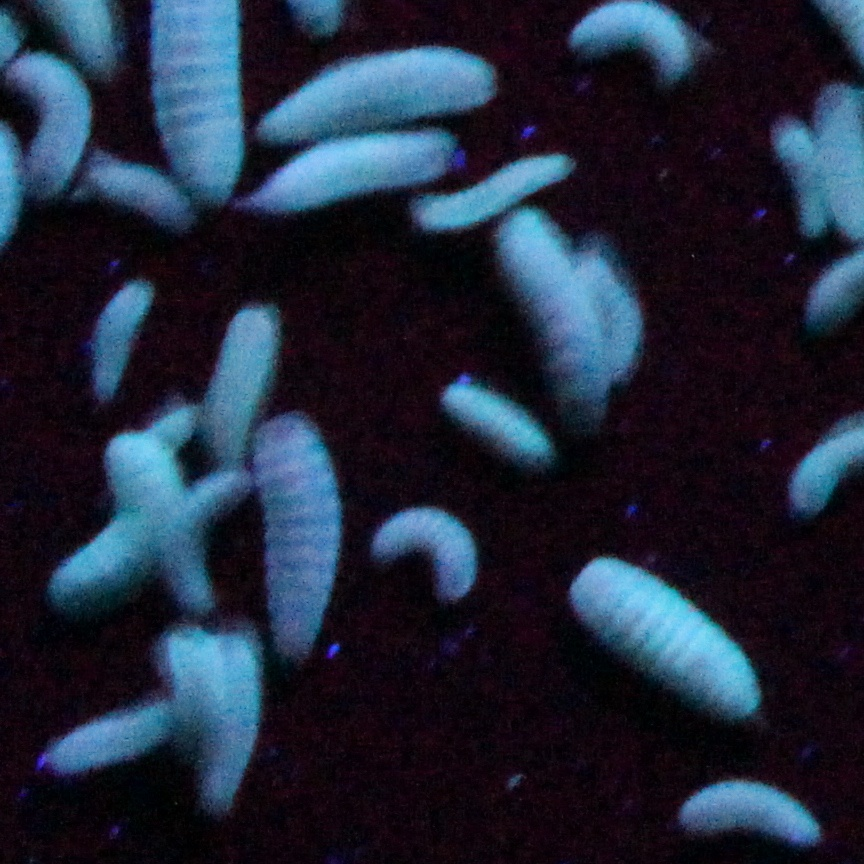larve: (573, 546, 759, 725), (261, 39, 504, 148), (232, 123, 451, 213), (505, 208, 604, 395), (261, 426, 336, 646), (120, 445, 200, 604), (20, 58, 99, 208), (51, 692, 189, 775), (422, 156, 577, 227), (208, 303, 275, 453), (679, 777, 821, 847), (373, 512, 474, 592), (446, 385, 550, 453), (93, 277, 141, 408), (100, 158, 186, 231), (780, 116, 818, 261), (211, 631, 244, 793)
